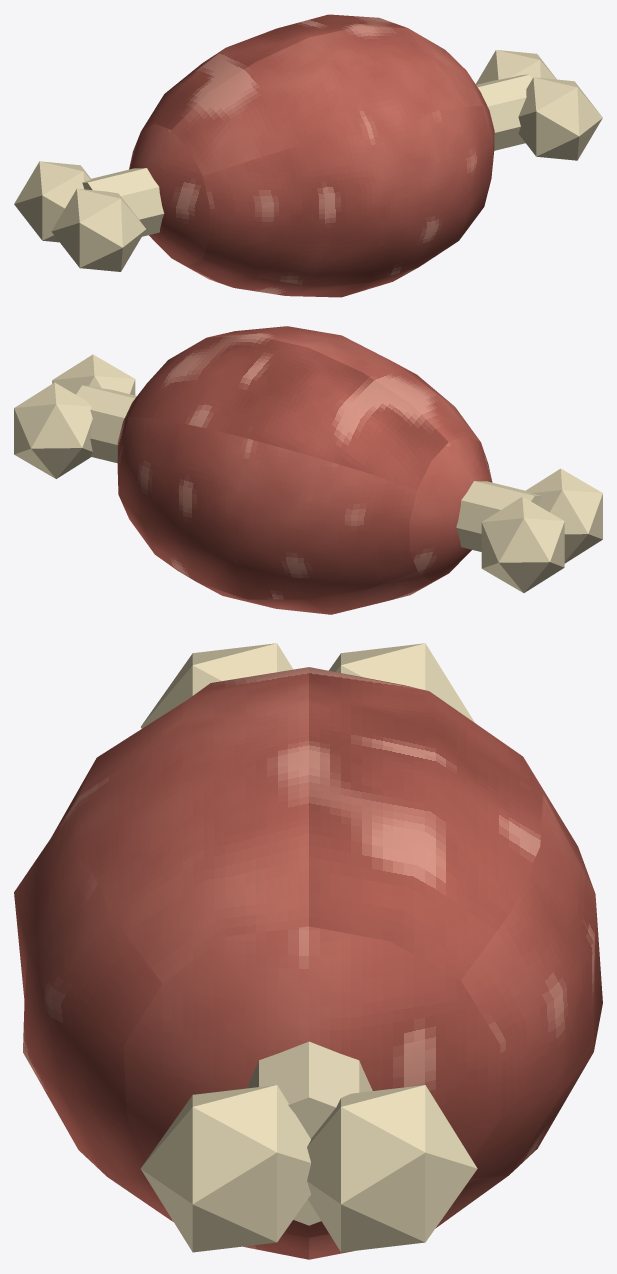
File: meat.glb
3 renders of one model, top to bottom at view 1: azimuth 30°, elevation 25°; view 2: azimuth 150°, elevation 25°; view 3: azimuth 270°, elevation 25°, orthographic. The views are drawn at different scales.
Parts seen in each view (by area): view 1: Meat; view 2: Meat; view 3: Meat.
Boxes of the visible parts, bbox=[...] form: Meat: bbox=[14, 14, 602, 297]; Meat: bbox=[14, 326, 602, 614]; Meat: bbox=[14, 643, 602, 1259].
Bounding box in the file's own units: 0.3601 × 0.16 × 0.1747.
Materials: 2 (1 with a texture image).
